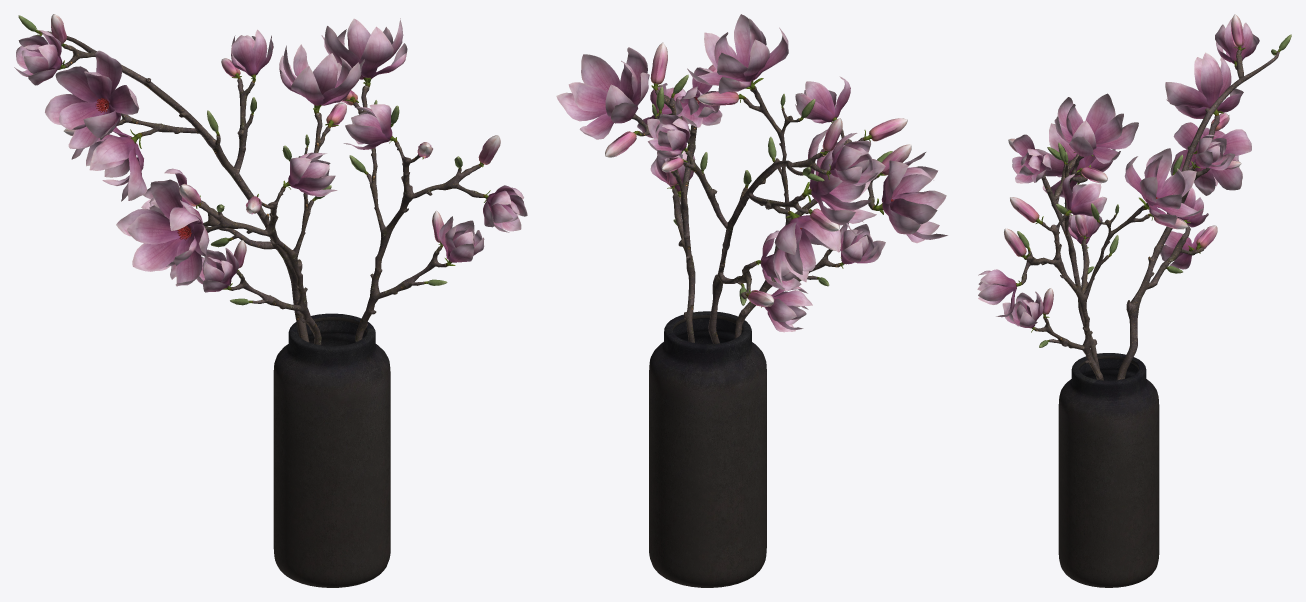
File: flores-rosas-jarron-oscuro.glb
3 views of the same model, side by side, from view 1: azimuth 30°, elevation 25°; view 2: azimuth 150°, elevation 25°; view 3: azimuth 270°, elevation 25° (orthographic). The views are drawn at different scales.
Visible parts, largest first — view 1: SketchUp.004, SketchUp, SketchUp.001; view 2: SketchUp.004, SketchUp, SketchUp.001; view 3: SketchUp.004, SketchUp, SketchUp.001.
Part boxes in pixels (x1=…): SketchUp.004: x1=14, y1=14, x2=527, y2=305; SketchUp: x1=273, y1=313, x2=390, y2=587; SketchUp.001: x1=40, y1=31, x2=483, y2=345; SketchUp.004: x1=556, y1=14, x2=947, y2=332; SketchUp: x1=649, y1=311, x2=766, y2=587; SketchUp.001: x1=631, y1=86, x2=878, y2=343; SketchUp.004: x1=977, y1=14, x2=1291, y2=347; SketchUp: x1=1058, y1=353, x2=1159, y2=587; SketchUp.001: x1=1021, y1=49, x2=1279, y2=380.
Bounding box in the file's own units: 0.3662 × 0.5187 × 0.3136.
1125 materials, 1125 textured.
